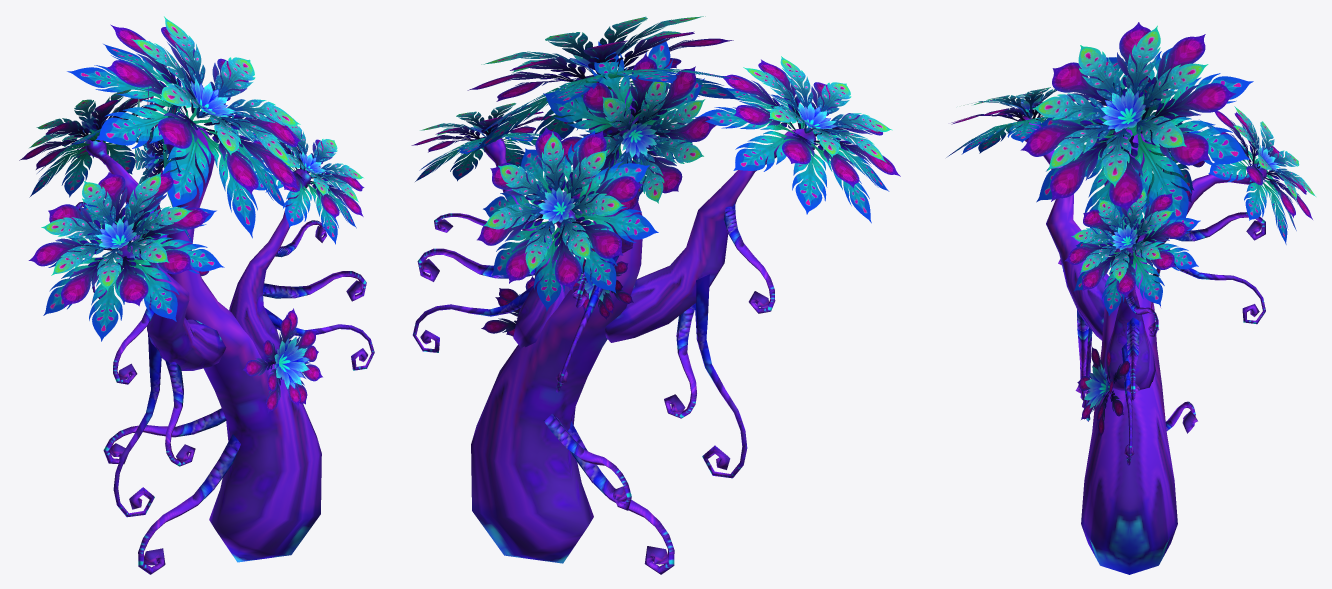
Rendered from Blue_Tree_09a.FBX.
The picture shows the model from 3 angles, left to right: view 1: azimuth 30°, elevation 25°; view 2: azimuth 150°, elevation 25°; view 3: azimuth 270°, elevation 25°; orthographic projection. The views are drawn at different scales.
Parts seen in each view (by area): view 1: Blue_Tree_09a; view 2: Blue_Tree_09a; view 3: Blue_Tree_09a.
Boxes of the visible parts, x1,y1,x2,y2 form: Blue_Tree_09a: [19, 16, 374, 574]; Blue_Tree_09a: [411, 16, 900, 574]; Blue_Tree_09a: [946, 22, 1315, 574].
Bounding box in the file's own units: 357 × 472 × 330.
